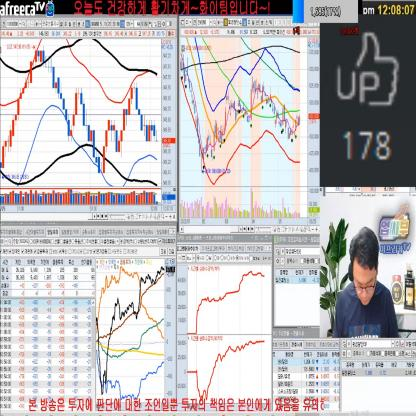streamer: (332, 226, 398, 338)
